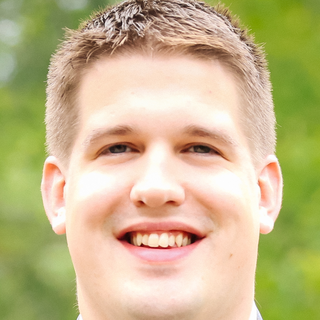eye: (176, 139, 227, 163), (95, 138, 143, 163)
